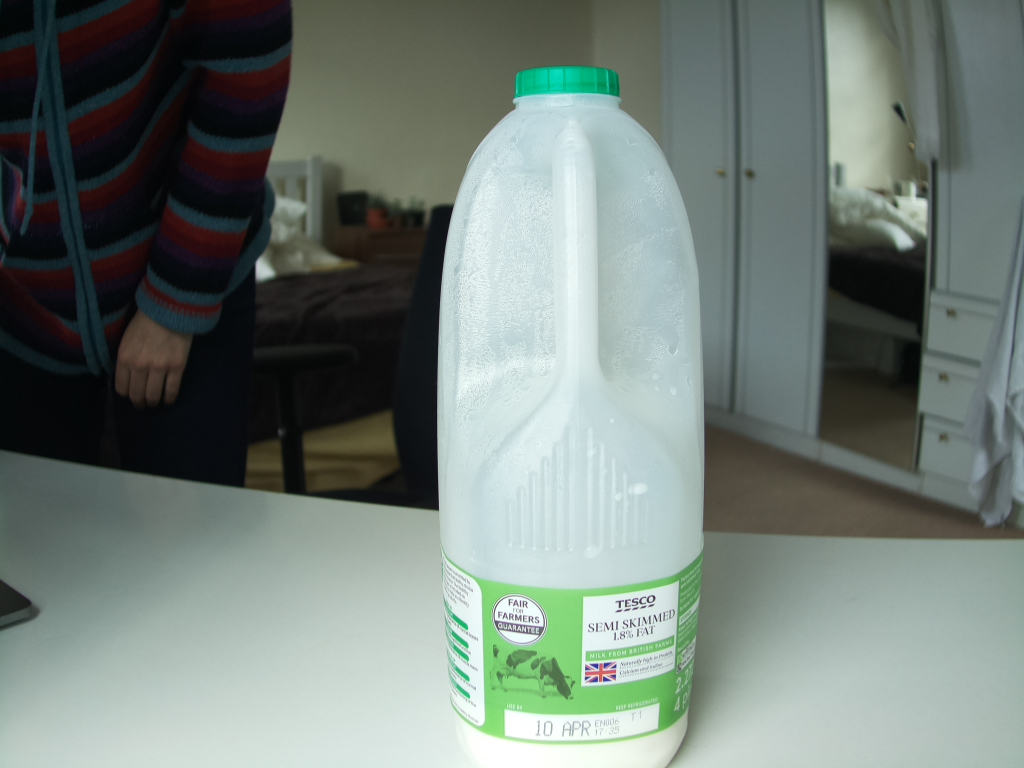milk: (431, 61, 717, 768)
